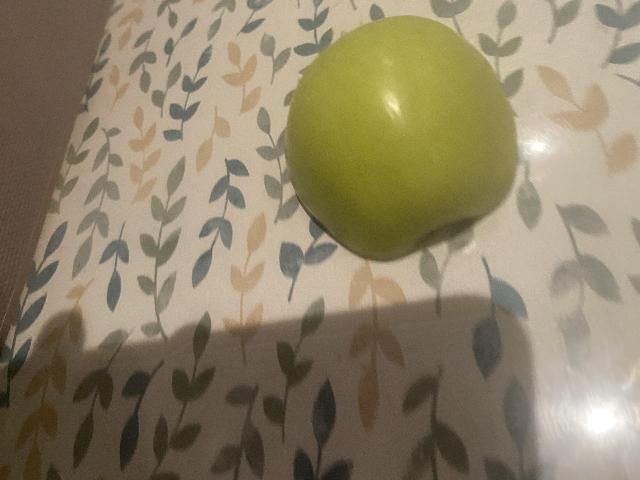Organik: (290, 17, 514, 252)
